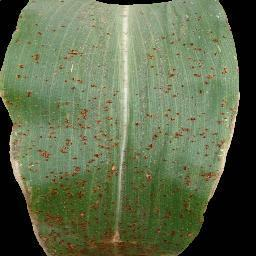Corn_Common_Rust: (0, 0, 142, 256), (142, 0, 242, 256)
